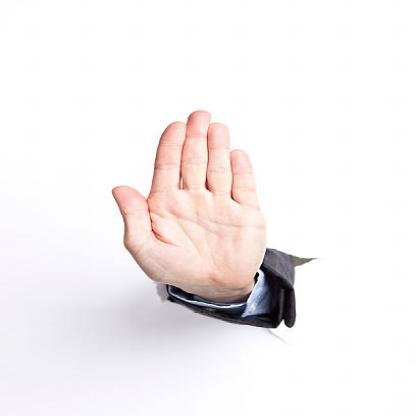stop: (106, 108, 272, 294)
